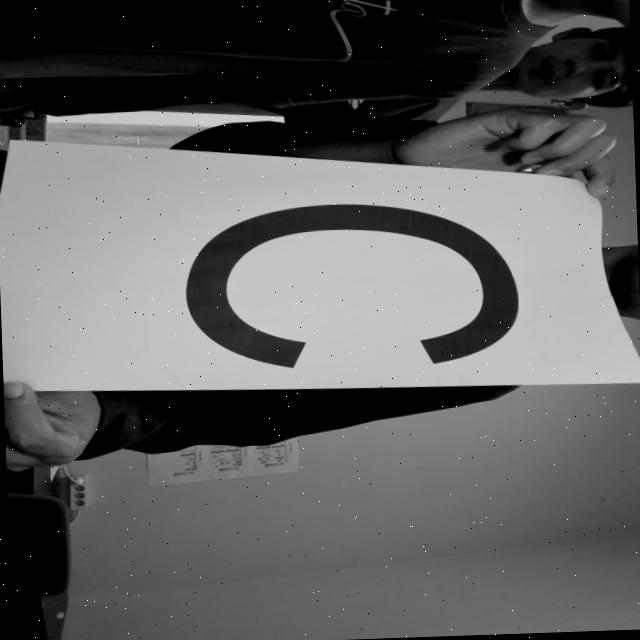c: (153, 190, 544, 398)
